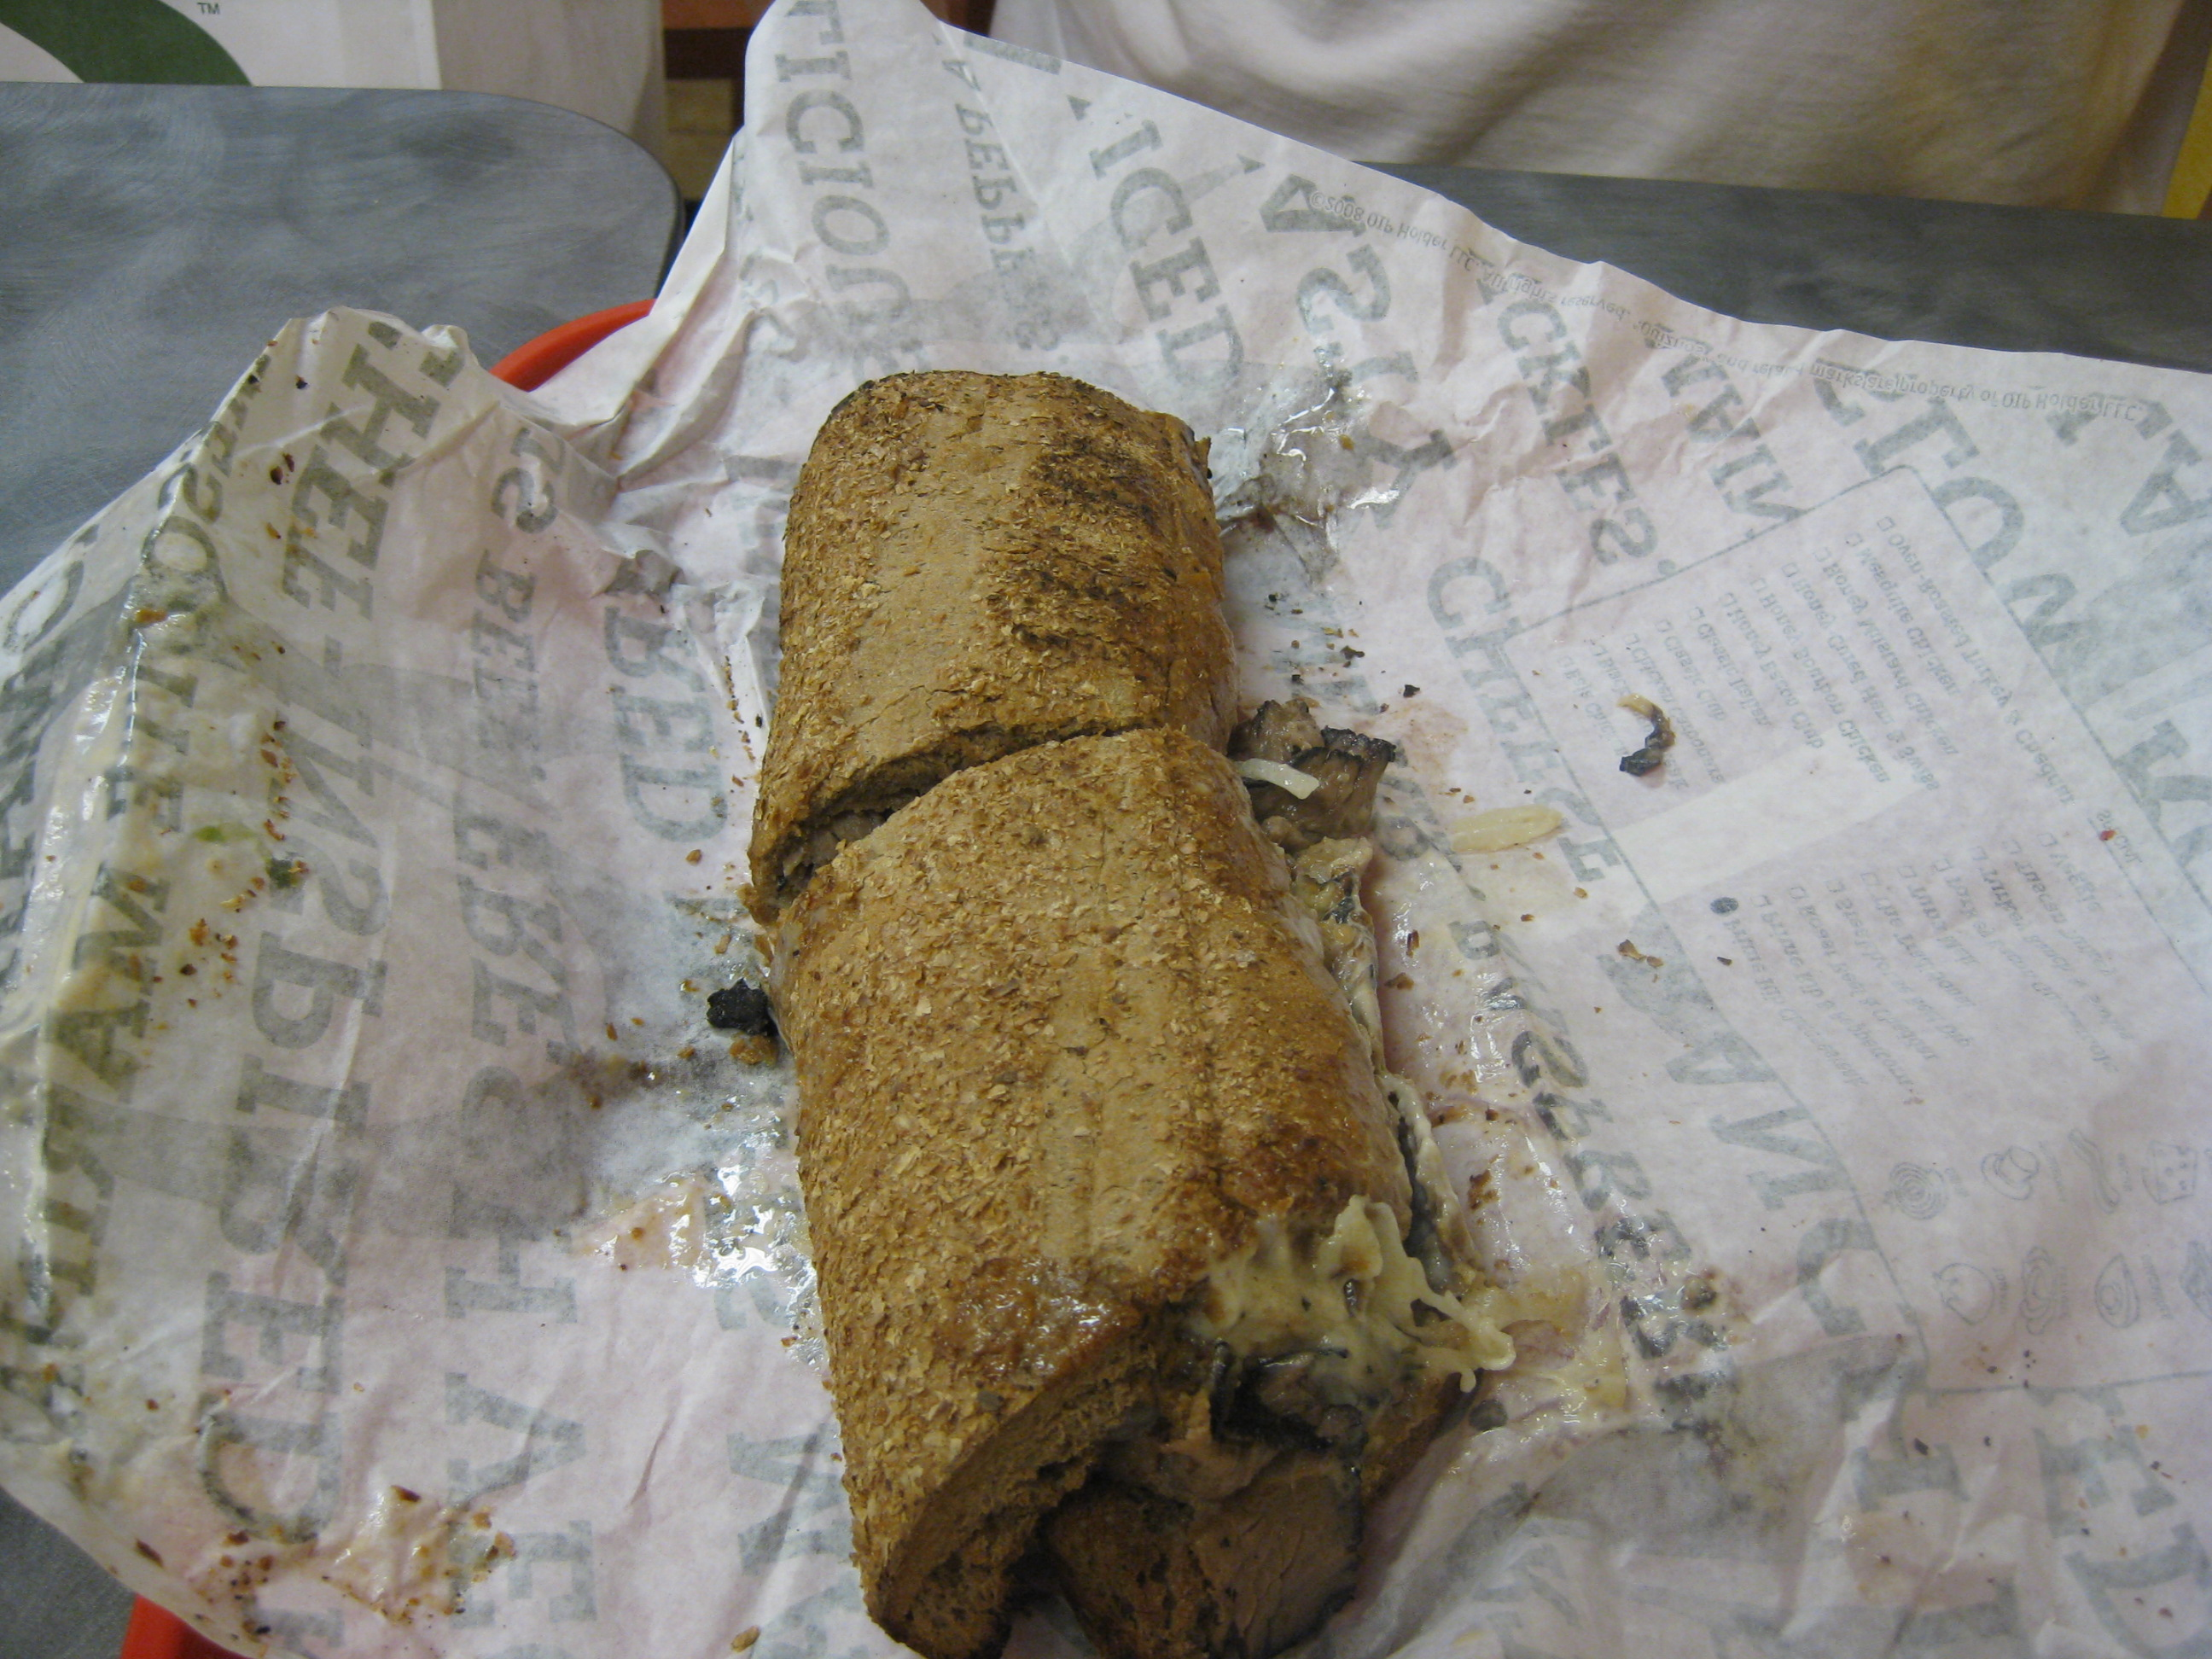sub: (742, 345, 1512, 1627)
